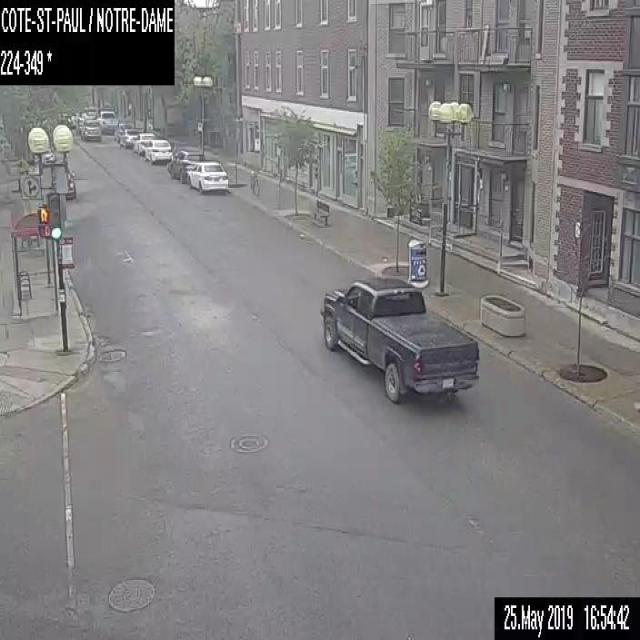vehicle: (319, 275, 480, 404), (188, 160, 228, 192), (170, 149, 204, 182), (144, 138, 171, 164), (79, 118, 101, 141), (95, 110, 117, 133), (132, 132, 155, 152), (119, 128, 138, 147), (114, 122, 130, 141), (41, 150, 54, 161)
